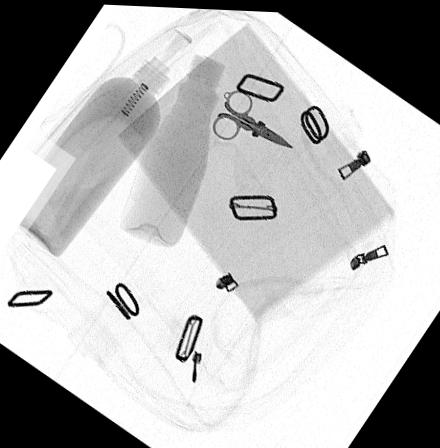Scissors: (211, 84, 294, 146)
